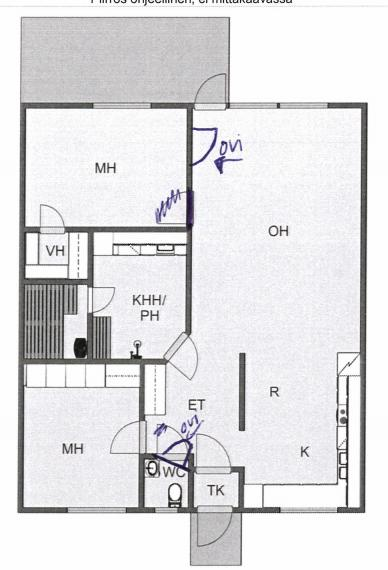bathroom: (139, 453, 193, 511)
door: (158, 331, 204, 383), (192, 502, 237, 549), (192, 430, 234, 478), (108, 416, 150, 457), (190, 71, 229, 114), (183, 124, 219, 167), (36, 203, 69, 235), (85, 285, 116, 316)
perimeter: (19, 101, 367, 512)
window: (63, 503, 131, 520), (88, 98, 157, 114), (275, 503, 342, 518), (277, 98, 332, 114), (226, 98, 279, 113), (152, 503, 179, 517)
